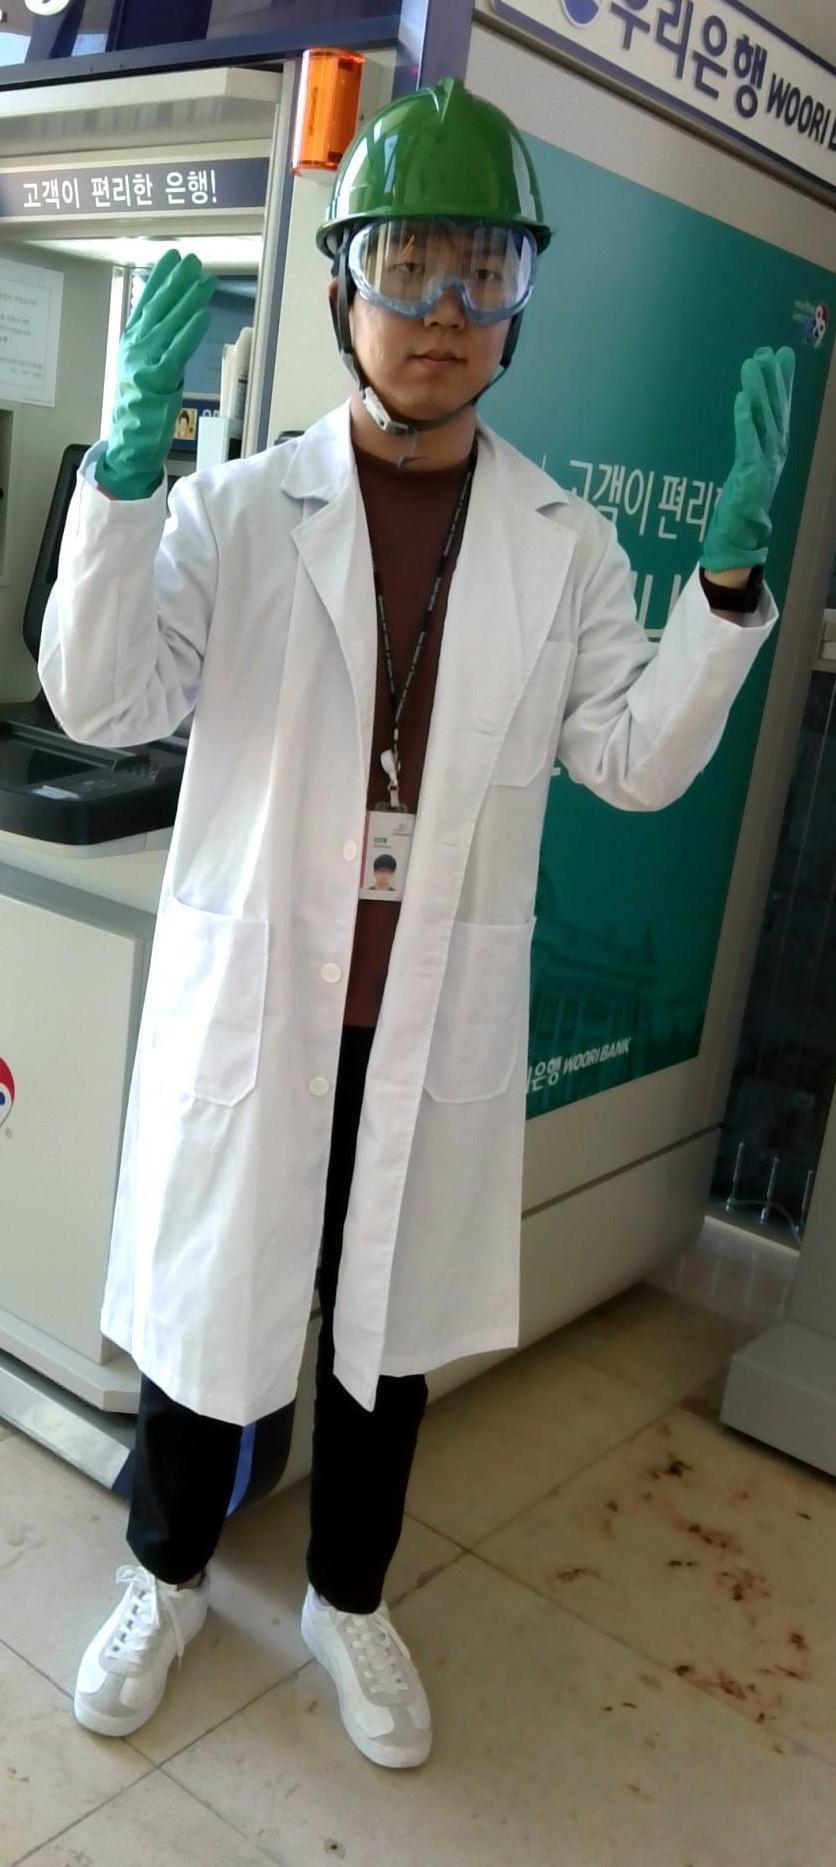lab_coat: (133, 527, 620, 1357)
